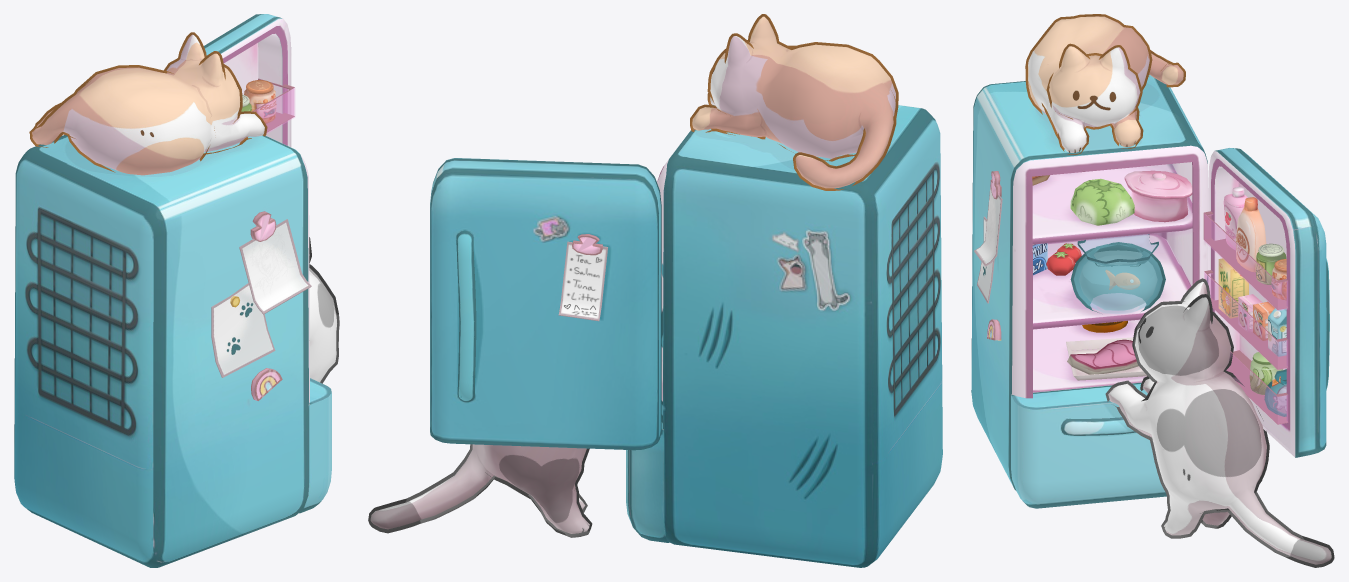
Rendered from cats_on_a_fridge.glb.
3 views of the same model, side by side, from view 1: azimuth 30°, elevation 25°; view 2: azimuth 150°, elevation 25°; view 3: azimuth 270°, elevation 25° (orthographic). The views are drawn at different scales.
Visible parts, largest first — view 1: FRIDGE.003, TOP (×2), Bot (×2), DOOR, FRIDGE.001; view 2: FRIDGE.003, TOP (×2), Bot (×2); view 3: FRIDGE.003, Bot (×2), TOP (×2), DOOR, INSIDE (×2), FRIDGE.001, FISH, lineart, FRIDGE.002, fishwater, Meat.
Boxes of the visible parts, bbox=[...] form: FRIDGE.003: bbox=[14, 14, 331, 567]; TOP (×2): bbox=[29, 32, 267, 175]; Bot (×2): bbox=[309, 237, 339, 383]; DOOR: bbox=[241, 80, 276, 123]; FRIDGE.001: bbox=[254, 85, 294, 133]; FRIDGE.003: bbox=[430, 105, 942, 567]; TOP (×2): bbox=[690, 14, 898, 190]; Bot (×2): bbox=[368, 444, 592, 537]; FRIDGE.003: bbox=[971, 75, 1329, 508]; Bot (×2): bbox=[1105, 278, 1334, 567]; TOP (×2): bbox=[1025, 14, 1185, 154]; DOOR: bbox=[1218, 187, 1286, 394]; INSIDE (×2): bbox=[1032, 170, 1192, 332]; FRIDGE.001: bbox=[1204, 213, 1287, 424]; FISH: bbox=[1074, 234, 1162, 313]; lineart: bbox=[1070, 242, 1165, 312]; FRIDGE.002: bbox=[1203, 211, 1287, 424]; fishwater: bbox=[1079, 250, 1157, 310]; Meat: bbox=[1066, 337, 1147, 380].
Size of the model in its own units: 353 by 396 by 300.
Materials: 17 (15 with a texture image).
